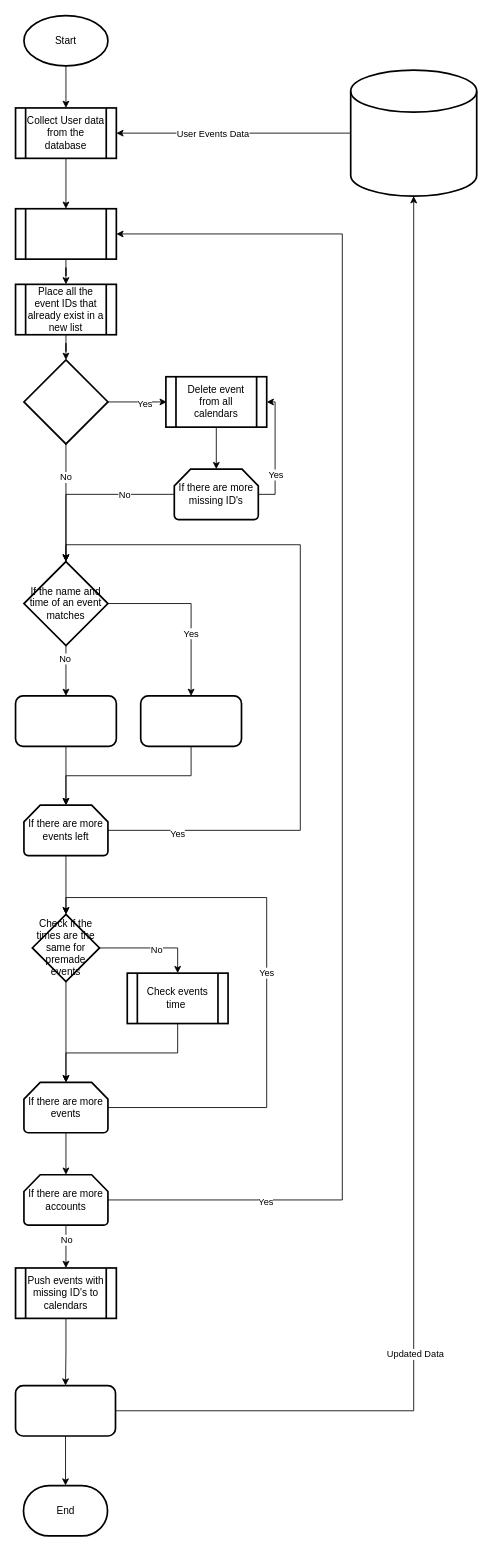
The diagram is 491 pixels wide and 1551 high, and some of its shapes have lost their labels. The shapes that lost their labels are listed below. From the top down, each one's centre as x and y in pixels, then its label:
the point at 413,133: Events Database
the point at 65,233: Request Data From Account
the point at 65,401: If there is an id in the events that doesn't exist anymore
the point at 65,721: Create a new Event Object
the point at 190,721: Add that event id to the object as related event
the point at 65,1410: Save New Event Objects to database and update the other ones
